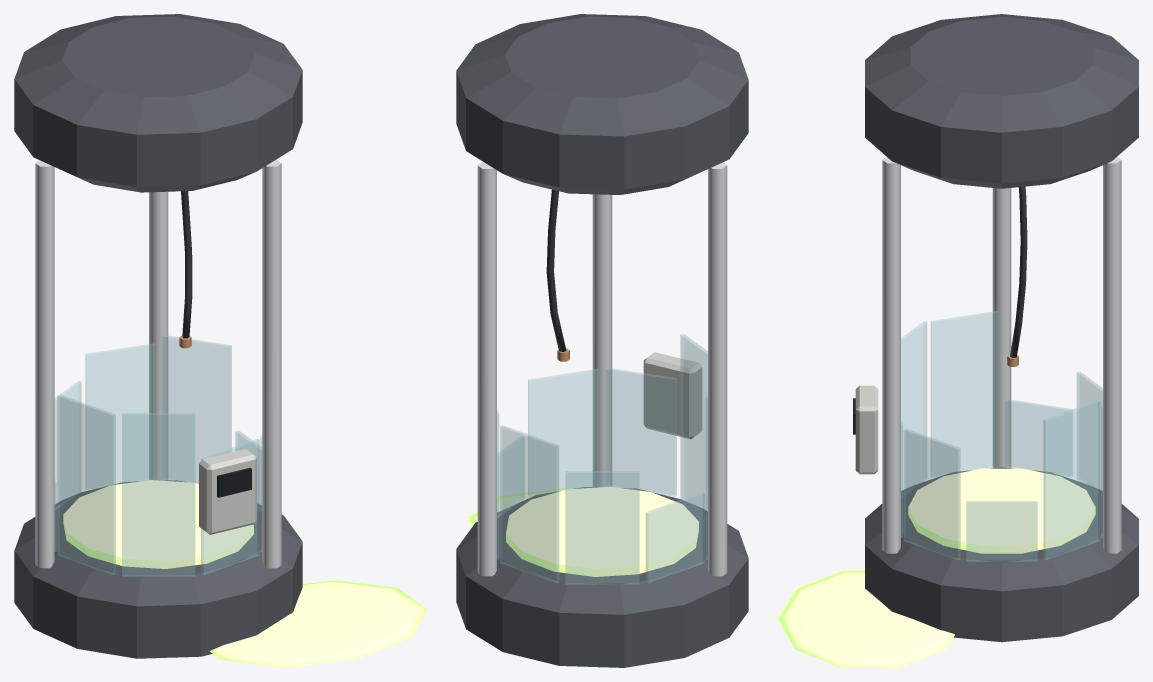
File: cryo_pod_broken.glb
3 renders of one model, left to right at view 1: azimuth 30°, elevation 25°; view 2: azimuth 150°, elevation 25°; view 3: azimuth 270°, elevation 25°, orthographic. The views are drawn at different scales.
Visible parts, largest first — view 1: cryo_pod; view 2: cryo_pod; view 3: cryo_pod.
Part boxes in pixels (x1,y1,x2,y2): cryo_pod: (14, 14, 427, 667); cryo_pod: (456, 14, 748, 667); cryo_pod: (777, 14, 1138, 667).
Size of the model in its own units: 1.87 by 3.11 by 1.93.
